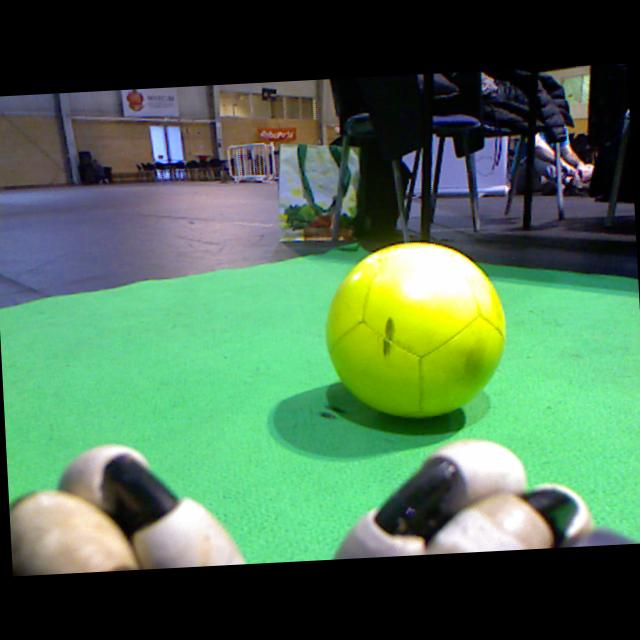ball: (326, 242, 506, 418)
